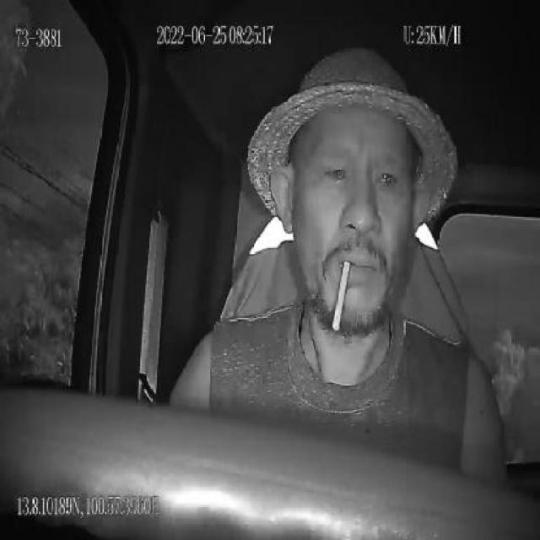smoking: (331, 256, 351, 333)
